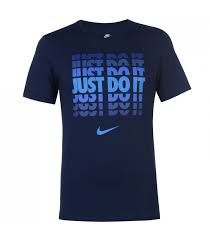nike: (89, 118, 126, 141)
